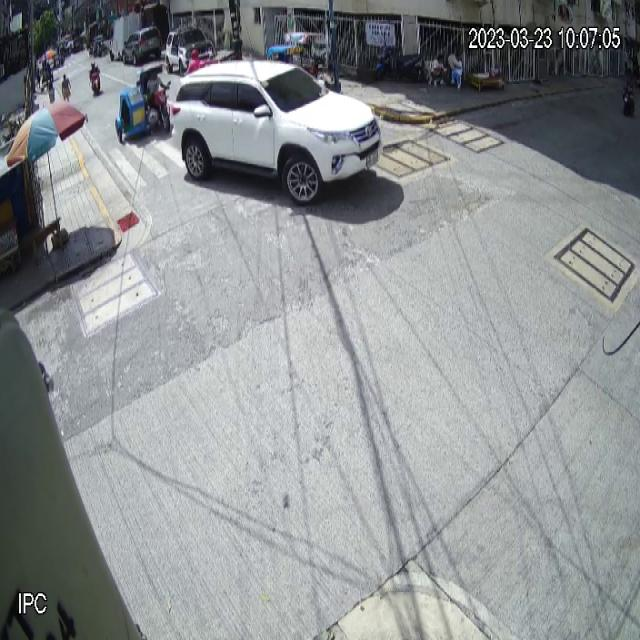Car: (171, 64, 383, 204)
Tricycle: (112, 64, 172, 146)
